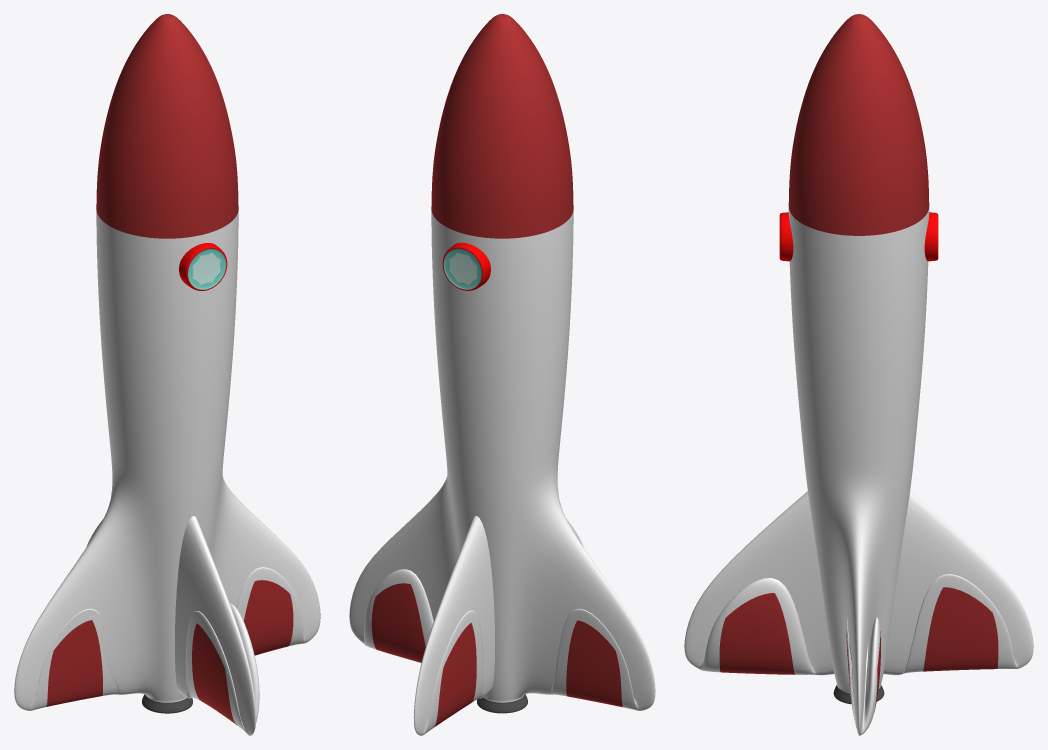
Rendered from Rocket-5.fbx.
The picture shows the model from 3 angles, left to right: view 1: azimuth 30°, elevation 25°; view 2: azimuth 150°, elevation 25°; view 3: azimuth 270°, elevation 25°; orthographic projection.
Visible parts, largest first — view 1: Rocket-5; view 2: Rocket-5; view 3: Rocket-5.
Part boxes in pixels (x1=…): Rocket-5: x1=14, y1=14, x2=320, y2=735; Rocket-5: x1=349, y1=14, x2=655, y2=735; Rocket-5: x1=684, y1=14, x2=1033, y2=735.
Bounding box in the file's own units: 323 × 693 × 323.
1 material, 1 textured.
